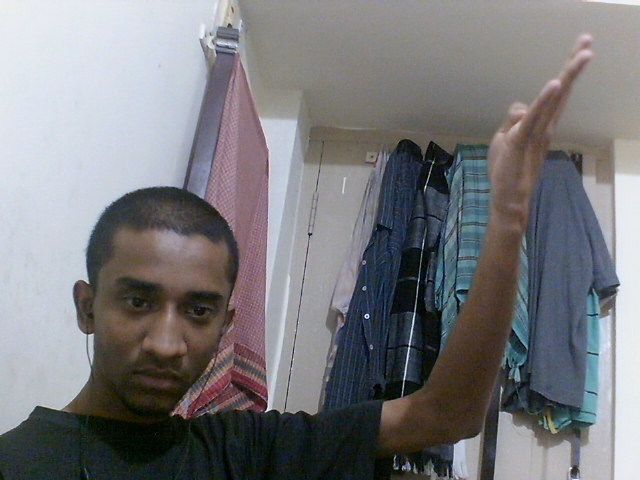hand: (480, 31, 596, 236)
